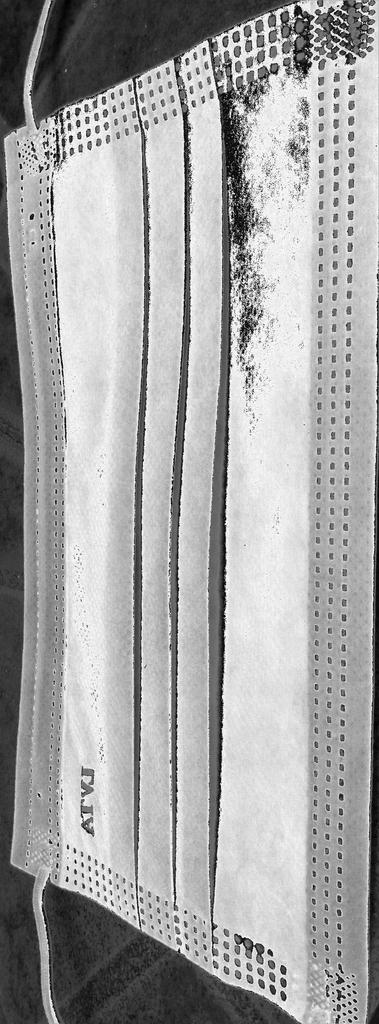High GSM: (45, 58, 311, 964)
